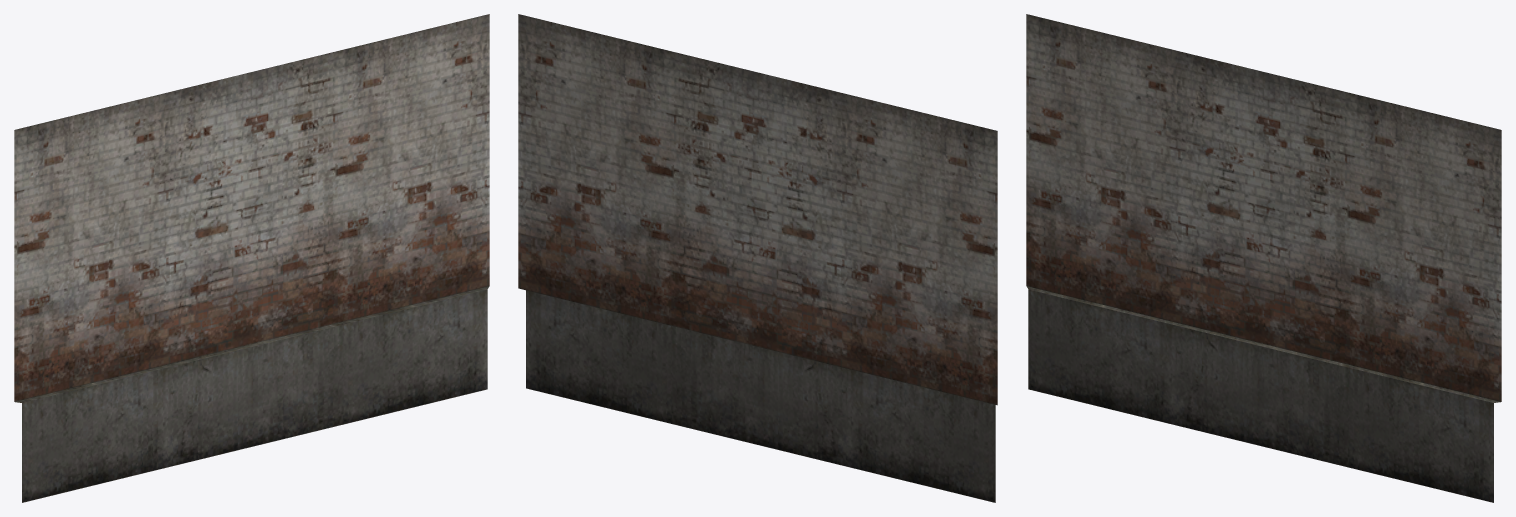
Rendered from sm21_040_prisonwall01a.fbx.
3 views of the same model, side by side, from view 1: azimuth 30°, elevation 25°; view 2: azimuth 150°, elevation 25°; view 3: azimuth 330°, elevation 25° (orthographic).
Parts seen in each view (by area): view 1: LOD_1_Group_0_Sub_1__sm21_040_PrisonWall01A_A_Mat; view 2: LOD_1_Group_0_Sub_1__sm21_040_PrisonWall01A_A_Mat; view 3: LOD_1_Group_0_Sub_1__sm21_040_PrisonWall01A_A_Mat.
Part boxes in pixels (box(x1,y1,x2,y2)): LOD_1_Group_0_Sub_1__sm21_040_PrisonWall01A_A_Mat: box(14, 14, 489, 502); LOD_1_Group_0_Sub_1__sm21_040_PrisonWall01A_A_Mat: box(518, 14, 997, 502); LOD_1_Group_0_Sub_1__sm21_040_PrisonWall01A_A_Mat: box(1026, 14, 1501, 502).
Bounding box in the file's own units: 438 × 328 × 4.51.
